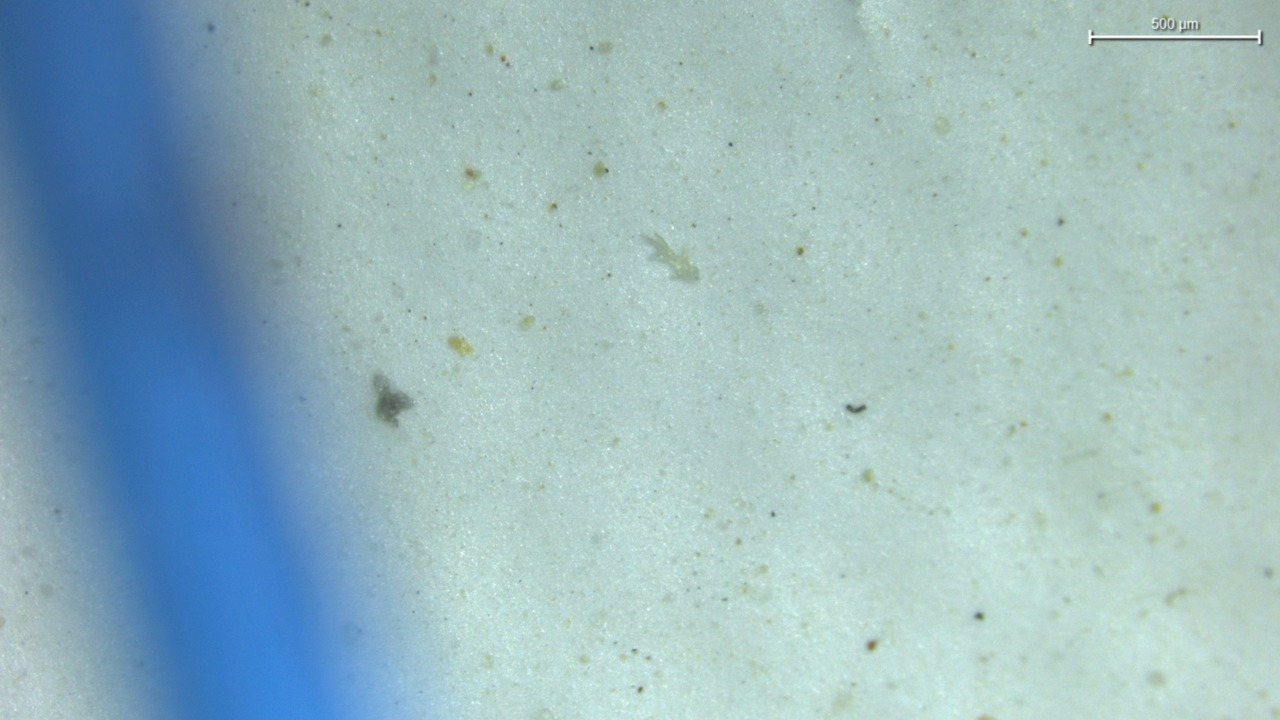microplastic_fragment: (642, 233, 699, 282), (372, 372, 414, 426)
